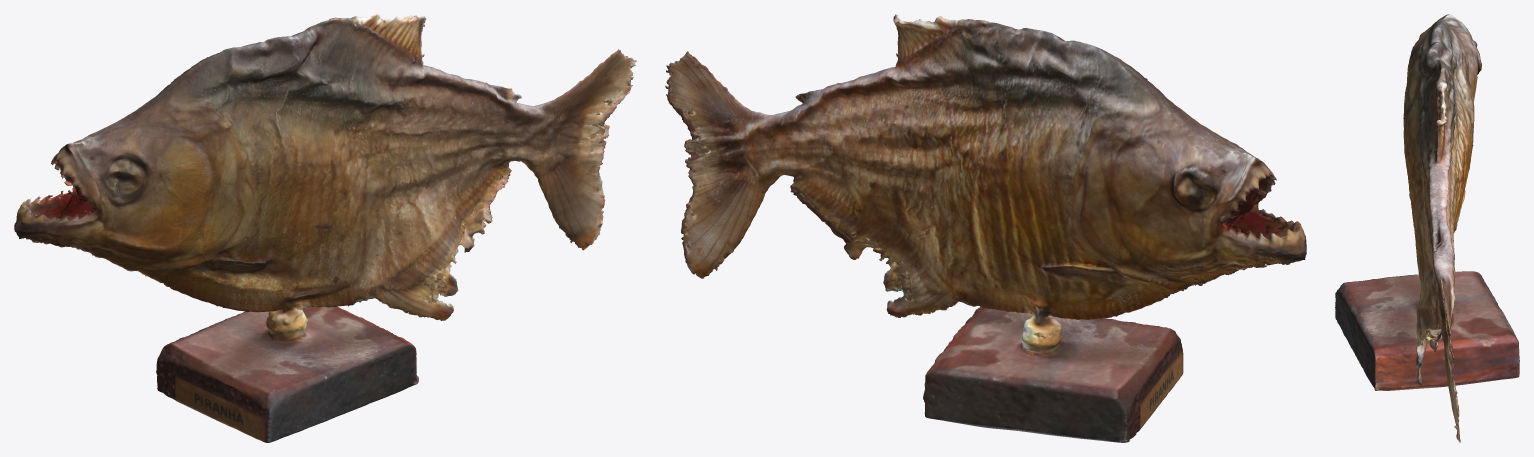
File: piece-011.glb
The picture shows the model from 3 angles, left to right: view 1: azimuth 30°, elevation 25°; view 2: azimuth 150°, elevation 25°; view 3: azimuth 270°, elevation 25°; orthographic projection. The views are drawn at different scales.
Visible parts, largest first — view 1: piranha_lowest_0; view 2: piranha_lowest_0; view 3: piranha_lowest_0.
Boxes of the visible parts, box(x1,y1,x2,y2) form: piranha_lowest_0: box(14, 14, 636, 442); piranha_lowest_0: box(665, 14, 1306, 442); piranha_lowest_0: box(1335, 14, 1519, 442).
Bounding box in the file's own units: 1.47 × 0.8128 × 0.4389.
2 materials, 1 textured.
